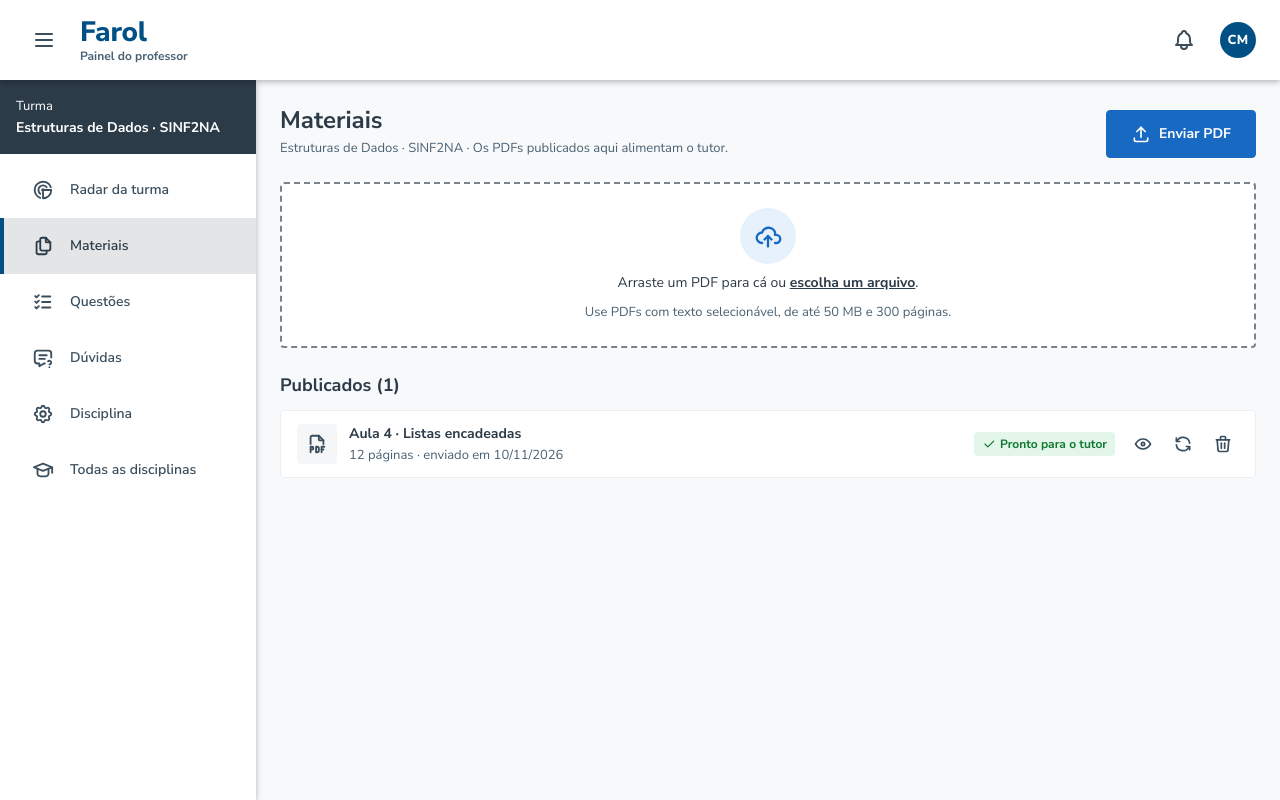
Test case: materiais da disciplina para o professor (MAT-T24) › retira um material da lista
This screenshot has width=1280, height=800.
Click the button named "Retirar a aula 4" at (1223, 444), box [1207,428,1239,460]
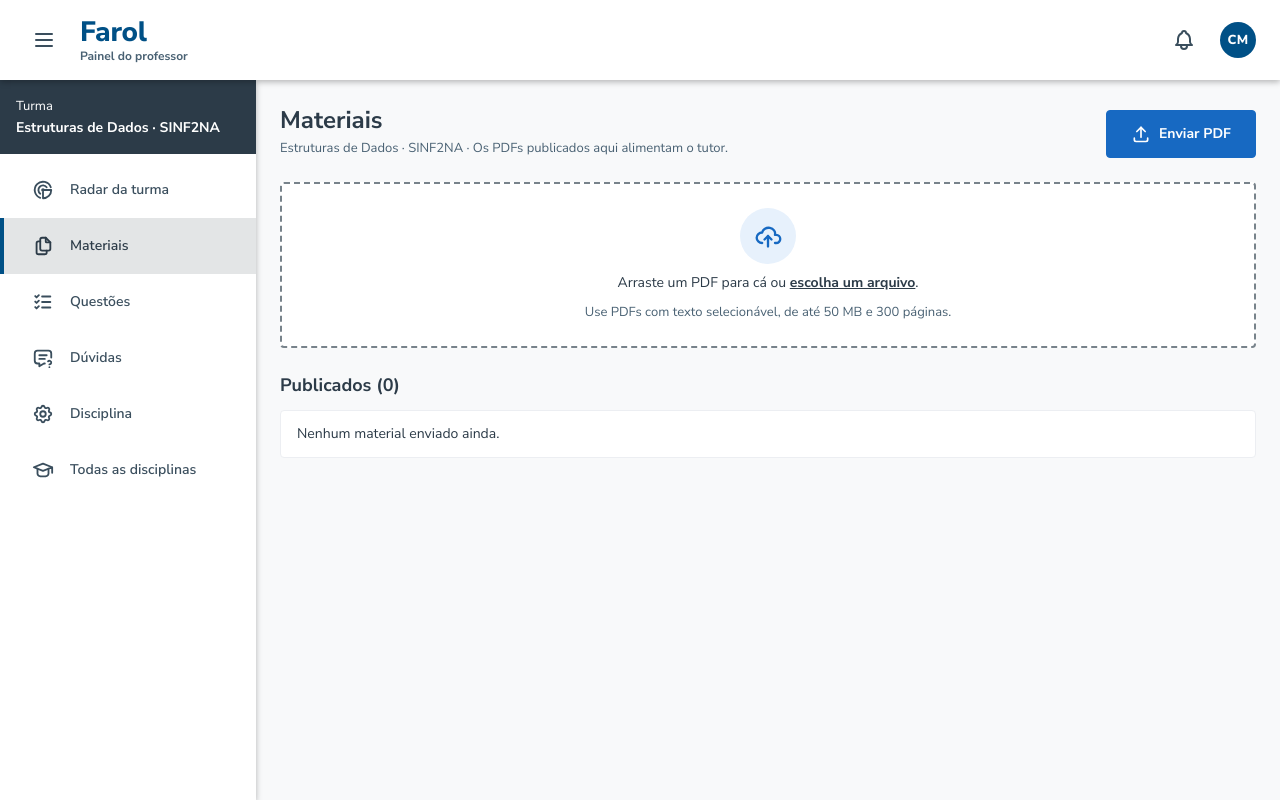
Now the list item "Nenhum material enviado ainda." is shown, box [297,424,499,443]
